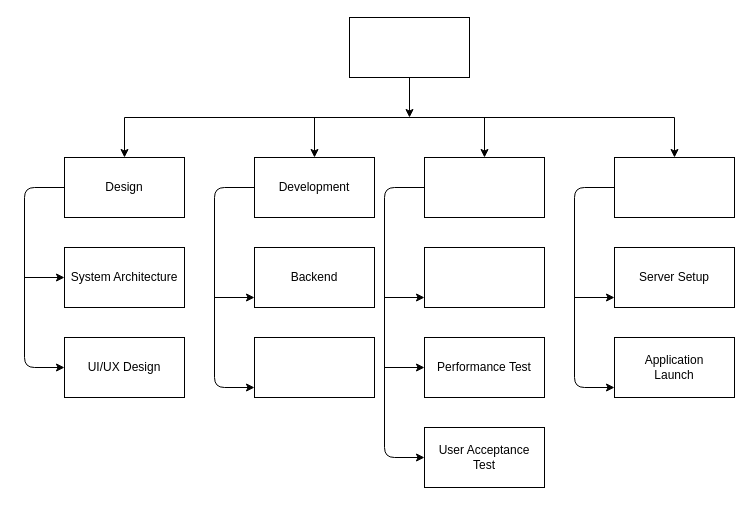
Some shapes in this 752 by 505 pixel diagram are drawn without their labels. The shapes that lost their labels are listed below. From the top down, each one's centre as x and y in pixels, then its label:
At point (409, 47): "Flowmi Project".
At point (484, 187): "Testing".
At point (674, 187): "Deployment".
At point (484, 277): "Functional Test".
At point (314, 367): "Frontend".
